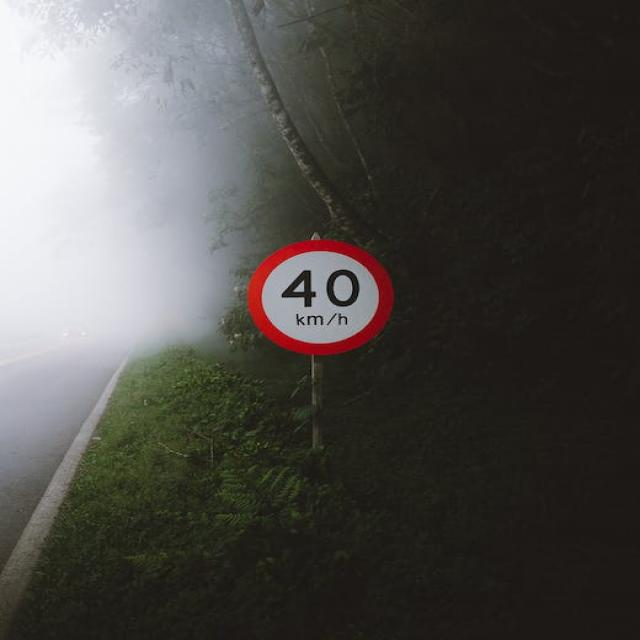speed limit 40: (249, 241, 395, 355)
